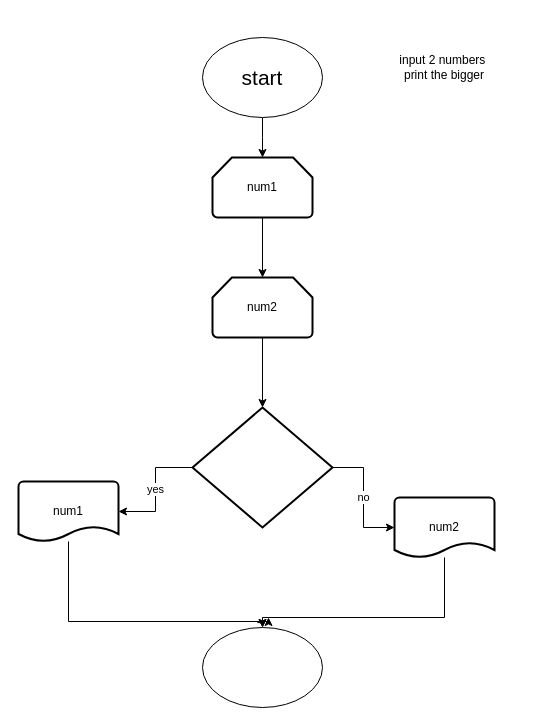
Some shapes in this 536 by 725 pixel diagram are drawn without their labels. Here are the shapes that lost their labels. From the top down, the centre of each, then its label:
point (262, 467): if num1>=num2
point (262, 667): stop
